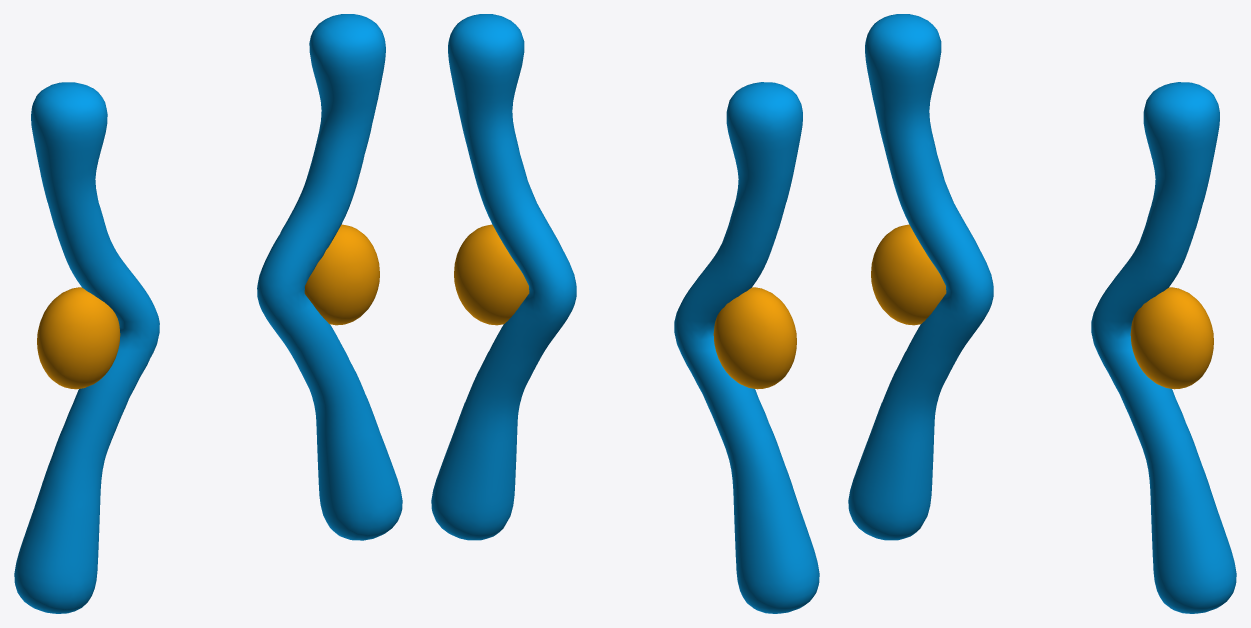
File: post prophase.fbx
The picture shows the model from 3 angles, left to right: view 1: azimuth 30°, elevation 25°; view 2: azimuth 150°, elevation 25°; view 3: azimuth 330°, elevation 25°; orthographic projection.
Visible parts, largest first — view 1: Vert.001, Vert; view 2: Vert.001, Vert; view 3: Vert, Vert.001.
Boxes of the visible parts, <box> form: Vert.001: <box>14,82,159,613</box>; Vert: <box>257,14,402,540</box>; Vert.001: <box>674,82,819,613</box>; Vert: <box>431,14,576,540</box>; Vert: <box>1091,82,1236,613</box>; Vert.001: <box>848,14,993,540</box>.
Size of the model in its own units: 4.06 by 5.36 by 0.7534.
